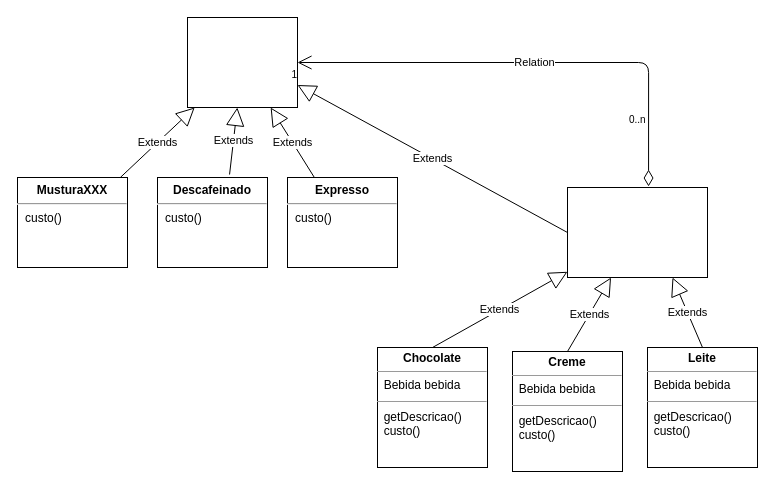
Some shapes in this 775 by 493 pixel diagram are drawn without their labels. Each missing label, with the centre of its shape:
Bebida getDescricao() custo(): the point at 242,62
InfredienteDecorator getDescricao(): the point at 637,232
